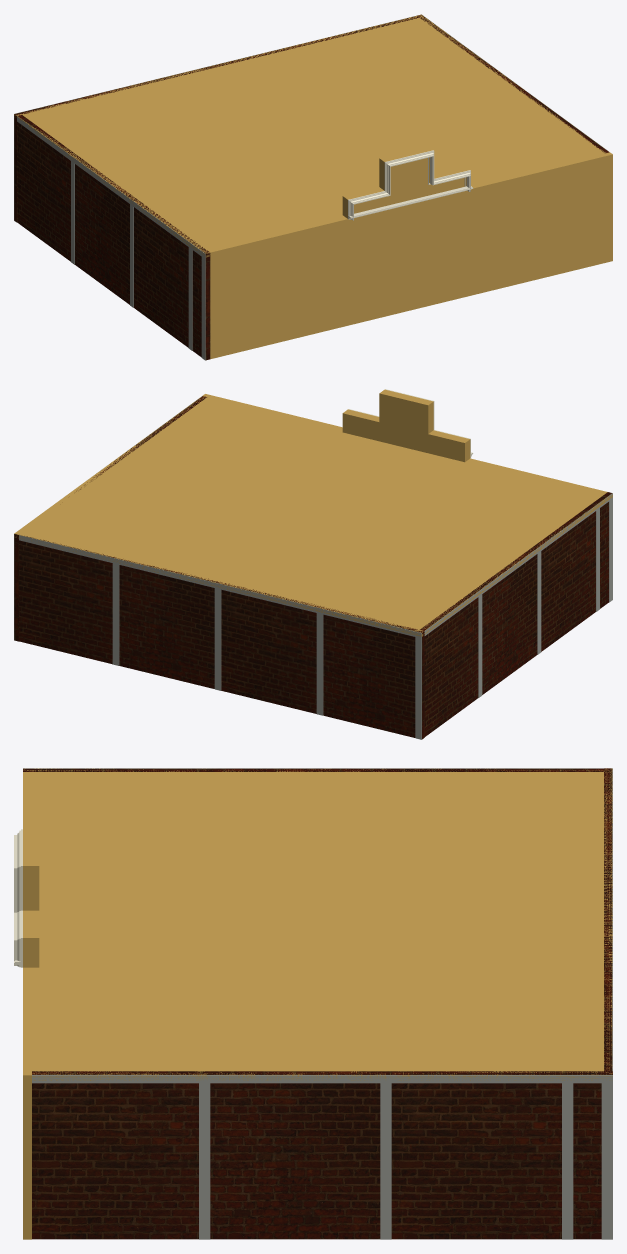
The model's file is building.glb.
3 renders of one model, top to bottom at view 1: azimuth 30°, elevation 25°; view 2: azimuth 150°, elevation 25°; view 3: azimuth 270°, elevation 25°, orthographic. The views are drawn at different scales.
Parts seen in each view (by area): view 1: roof/house:0/roof_slab#0001, house:0/edge0/z0/house:0/edge0/z0/wall_0_0, house:0/edge3/z0/house:0/edge3/z0/wall_0_0, crown/coronamiento/crown_body#0001, house:0/edge2/z0/house:0/edge2/z0/wall_0_0, crown/coronamiento/crown_moulding#0001, house:0/edge3/z0/house:0/edge3/z0/beam_0_0, house:0/edge1/z0/house:0/edge1/z0/wall_0_0, crown/coronamiento/crown_base_cornice#0001, house:0/edge3/z0/house:0/edge3/z0/column_1_0, house:0/edge3/z0/house:0/edge3/z0/column_4_0; view 2: roof/house:0/roof_slab#0001, house:0/edge2/z0/house:0/edge2/z0/wall_0_0, house:0/edge3/z0/house:0/edge3/z0/wall_0_0, crown/coronamiento/crown_body#0001, house:0/edge2/z0/house:0/edge2/z0/beam_0_0, house:0/edge1/z0/house:0/edge1/z0/wall_0_0, house:0/edge3/z0/house:0/edge3/z0/beam_0_0, house:0/edge0/z0/house:0/edge0/z0/wall_0_0, house:0/edge2/z0/house:0/edge2/z0/column_2_0, house:0/edge2/z0/house:0/edge2/z0/column_3_0, house:0/edge2/z0/house:0/edge2/z0/column_4_0, house:0/edge2/z0/house:0/edge2/z0/column_1_0 (+2 smaller); view 3: roof/house:0/roof_slab#0001, house:0/edge1/z0/house:0/edge1/z0/wall_0_0, house:0/edge1/z0/house:0/edge1/z0/beam_0_0, house:0/edge0/z0/house:0/edge0/z0/wall_0_0, house:0/edge2/z0/house:0/edge2/z0/wall_0_0, house:0/edge3/z0/house:0/edge3/z0/wall_0_0, crown/coronamiento/crown_body#0001, house:0/edge1/z0/house:0/edge1/z0/column_1_0, house:0/edge1/z0/house:0/edge1/z0/column_2_0, house:0/edge1/z0/house:0/edge1/z0/column_3_0, house:0/edge1/z0/house:0/edge1/z0/column_4_0, crown/coronamiento/crown_moulding#0001.
Part boxes in pixels (box(x1,y1,x2,y2)): roof/house:0/roof_slab#0001: box(14, 14, 612, 257); house:0/edge0/z0/house:0/edge0/z0/wall_0_0: box(208, 152, 612, 359); house:0/edge3/z0/house:0/edge3/z0/wall_0_0: box(17, 115, 210, 360); crown/coronamiento/crown_body#0001: box(342, 146, 468, 217); house:0/edge2/z0/house:0/edge2/z0/wall_0_0: box(14, 16, 418, 222); crown/coronamiento/crown_moulding#0001: box(348, 150, 470, 220); house:0/edge3/z0/house:0/edge3/z0/beam_0_0: box(17, 116, 205, 259); house:0/edge1/z0/house:0/edge1/z0/wall_0_0: box(417, 14, 608, 153); crown/coronamiento/crown_base_cornice#0001: box(348, 186, 473, 219); house:0/edge3/z0/house:0/edge3/z0/column_1_0: box(201, 257, 205, 360); house:0/edge3/z0/house:0/edge3/z0/column_4_0: box(188, 247, 192, 350); roof/house:0/roof_slab#0001: box(14, 394, 612, 636); house:0/edge2/z0/house:0/edge2/z0/wall_0_0: box(19, 536, 424, 739); house:0/edge3/z0/house:0/edge3/z0/wall_0_0: box(420, 492, 612, 736); crown/coronamiento/crown_body#0001: box(342, 390, 469, 462); house:0/edge2/z0/house:0/edge2/z0/beam_0_0: box(19, 535, 421, 638); house:0/edge1/z0/house:0/edge1/z0/wall_0_0: box(14, 396, 206, 641); house:0/edge3/z0/house:0/edge3/z0/beam_0_0: box(424, 493, 612, 635); house:0/edge0/z0/house:0/edge0/z0/wall_0_0: box(202, 394, 607, 493); house:0/edge2/z0/house:0/edge2/z0/column_2_0: box(112, 563, 119, 665); house:0/edge2/z0/house:0/edge2/z0/column_3_0: box(214, 588, 221, 690); house:0/edge2/z0/house:0/edge2/z0/column_4_0: box(316, 613, 323, 715); house:0/edge2/z0/house:0/edge2/z0/column_1_0: box(415, 637, 421, 739); roof/house:0/roof_slab#0001: box(23, 768, 612, 1080); house:0/edge1/z0/house:0/edge1/z0/wall_0_0: box(32, 1071, 612, 1239); house:0/edge1/z0/house:0/edge1/z0/beam_0_0: box(32, 1075, 612, 1083); house:0/edge0/z0/house:0/edge0/z0/wall_0_0: box(23, 772, 31, 1239); house:0/edge2/z0/house:0/edge2/z0/wall_0_0: box(604, 768, 612, 1071); house:0/edge3/z0/house:0/edge3/z0/wall_0_0: box(23, 768, 603, 771); crown/coronamiento/crown_body#0001: box(25, 829, 39, 967); house:0/edge1/z0/house:0/edge1/z0/column_1_0: box(601, 1083, 612, 1239); house:0/edge1/z0/house:0/edge1/z0/column_2_0: box(199, 1083, 210, 1239); house:0/edge1/z0/house:0/edge1/z0/column_3_0: box(380, 1083, 391, 1239); house:0/edge1/z0/house:0/edge1/z0/column_4_0: box(562, 1083, 573, 1239); crown/coronamiento/crown_moulding#0001: box(14, 829, 22, 967).
Size of the model in its own units: 16 by 5.8 by 13.2.
Materials: 4 (1 with a texture image).
